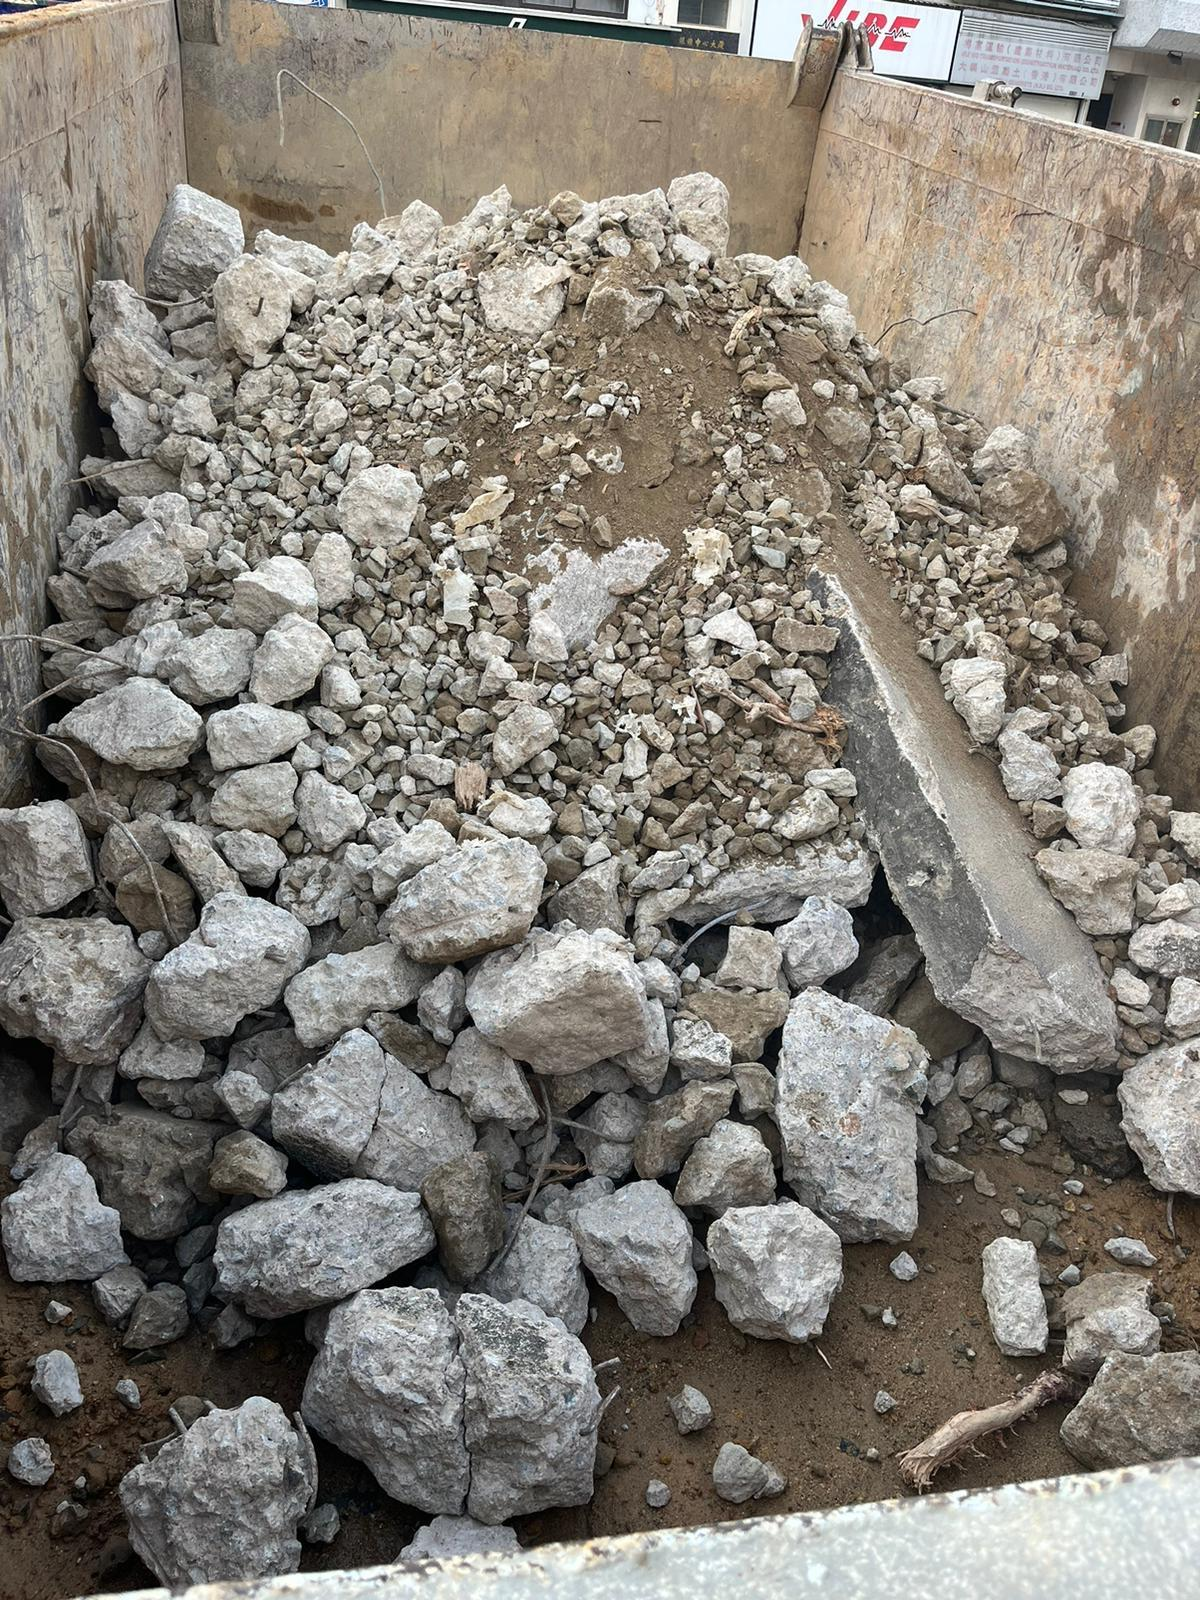dirt: (3, 173, 1197, 1592)
stone: (771, 984, 930, 1243), (117, 1393, 318, 1592), (463, 923, 650, 1075), (382, 831, 547, 963), (705, 1199, 843, 1343), (979, 1233, 1049, 1357), (710, 1440, 785, 1503)
